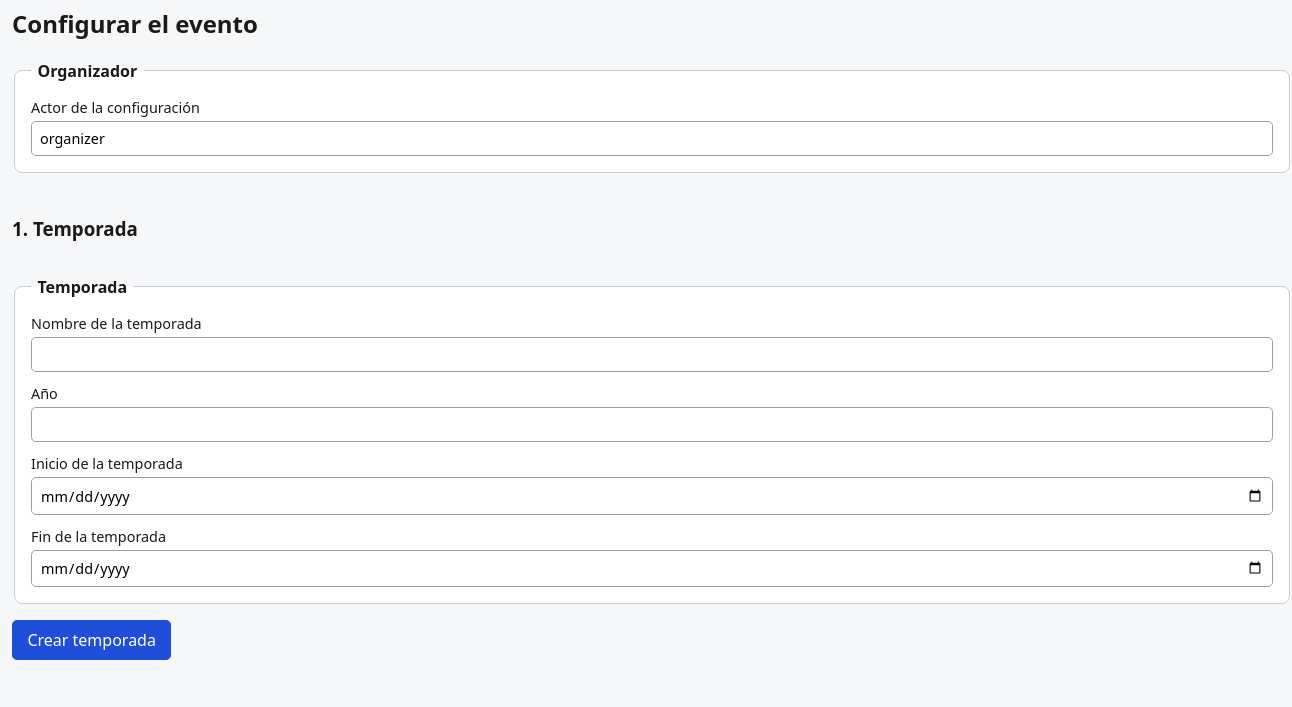
EventPage › checks presence and format before sending anything
This screenshot has width=1292, height=707.
Click the button "Crear temporada" at (92, 640), box [12,620,171,660]
(page scrolled)
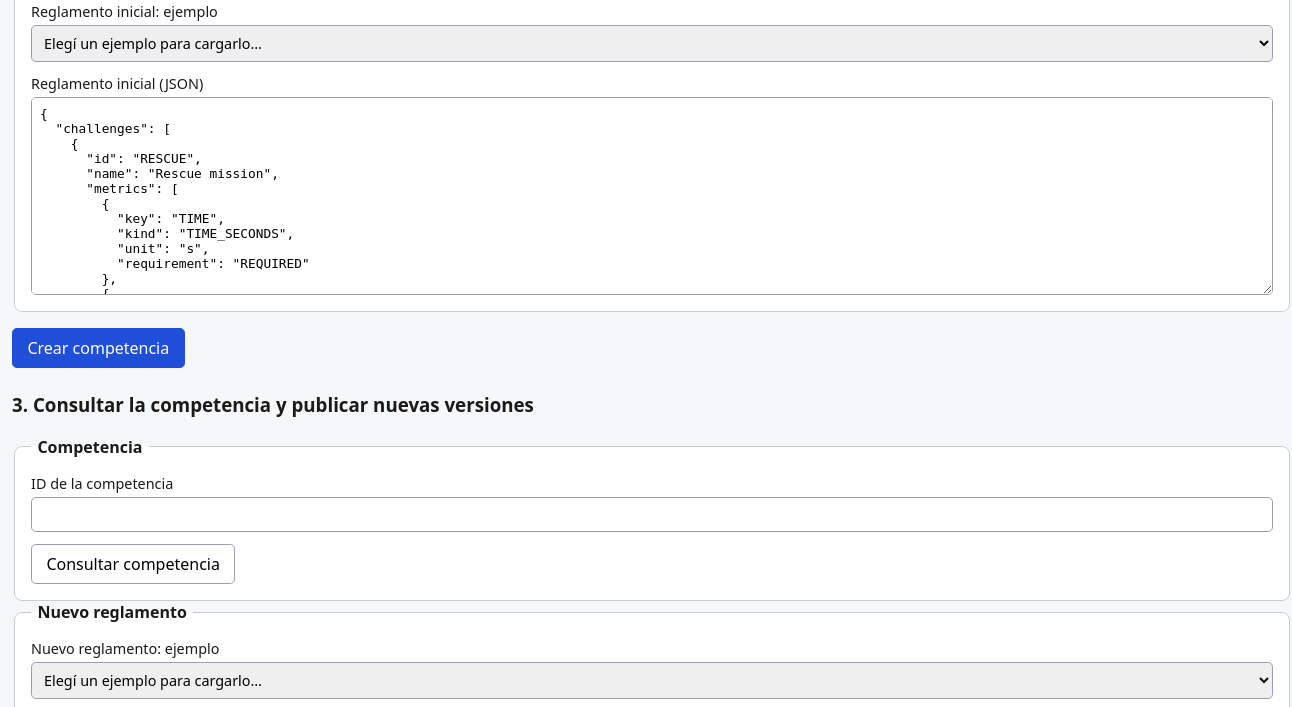
Click the button "Crear competencia" at (98, 348), box [12,328,185,368]
(page scrolled)
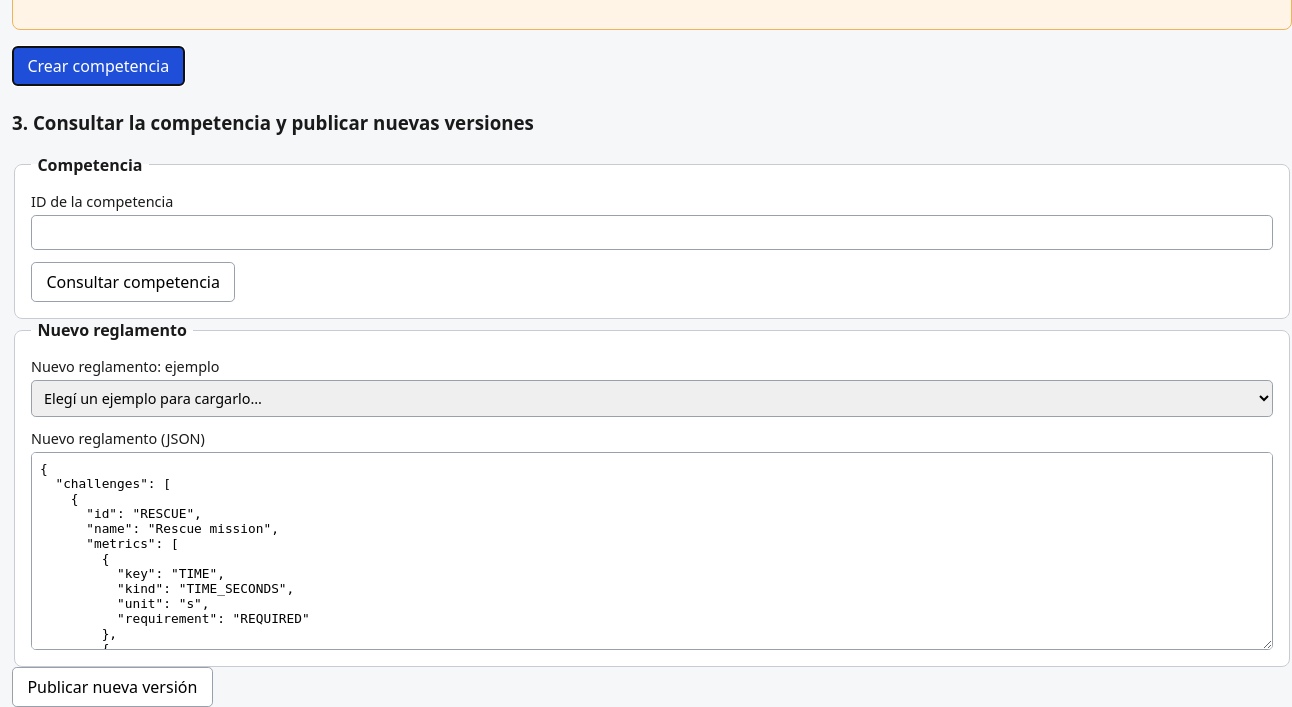
Click the button "Publicar nueva versión" at (112, 687), box [12,667,213,706]
(page scrolled)
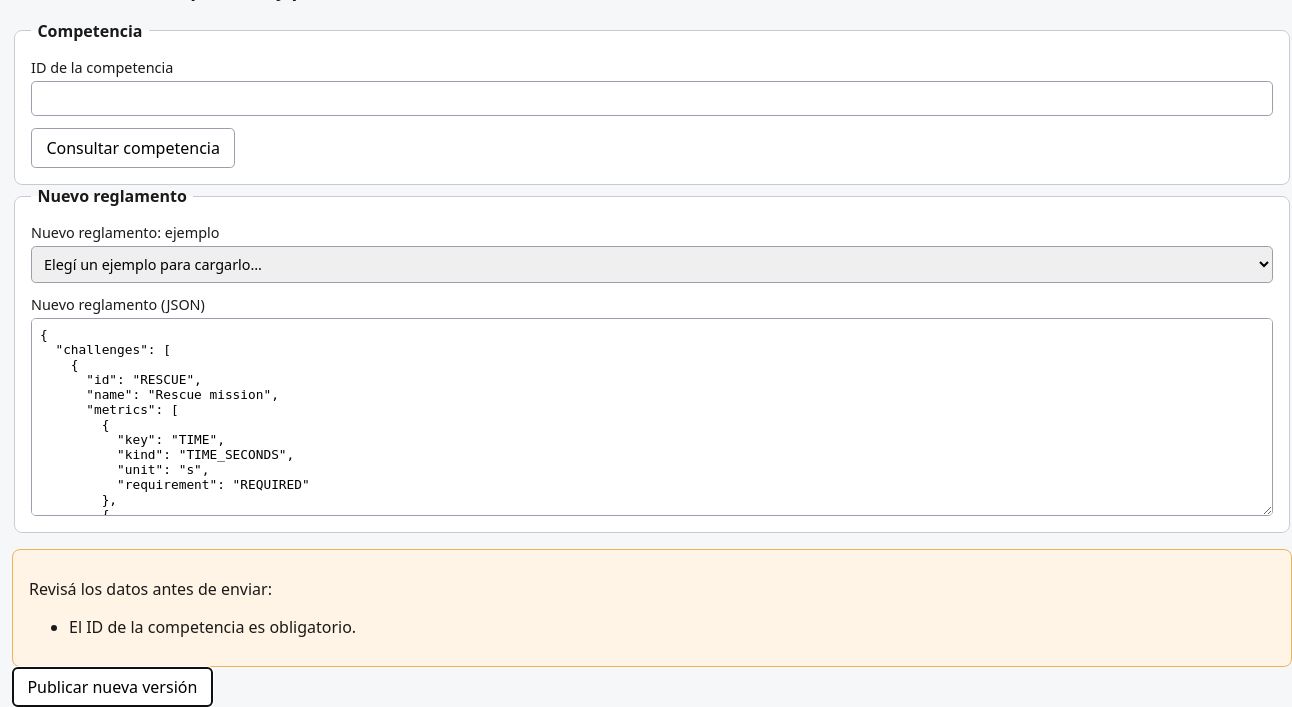
Now the list item "El ID de la competencia es obligatorio." is shown, box [69,616,356,638]
